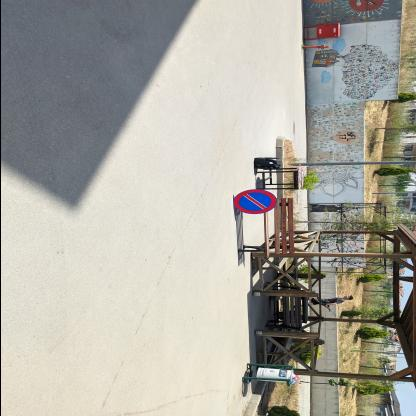No Waiting: (233, 191, 277, 215)
